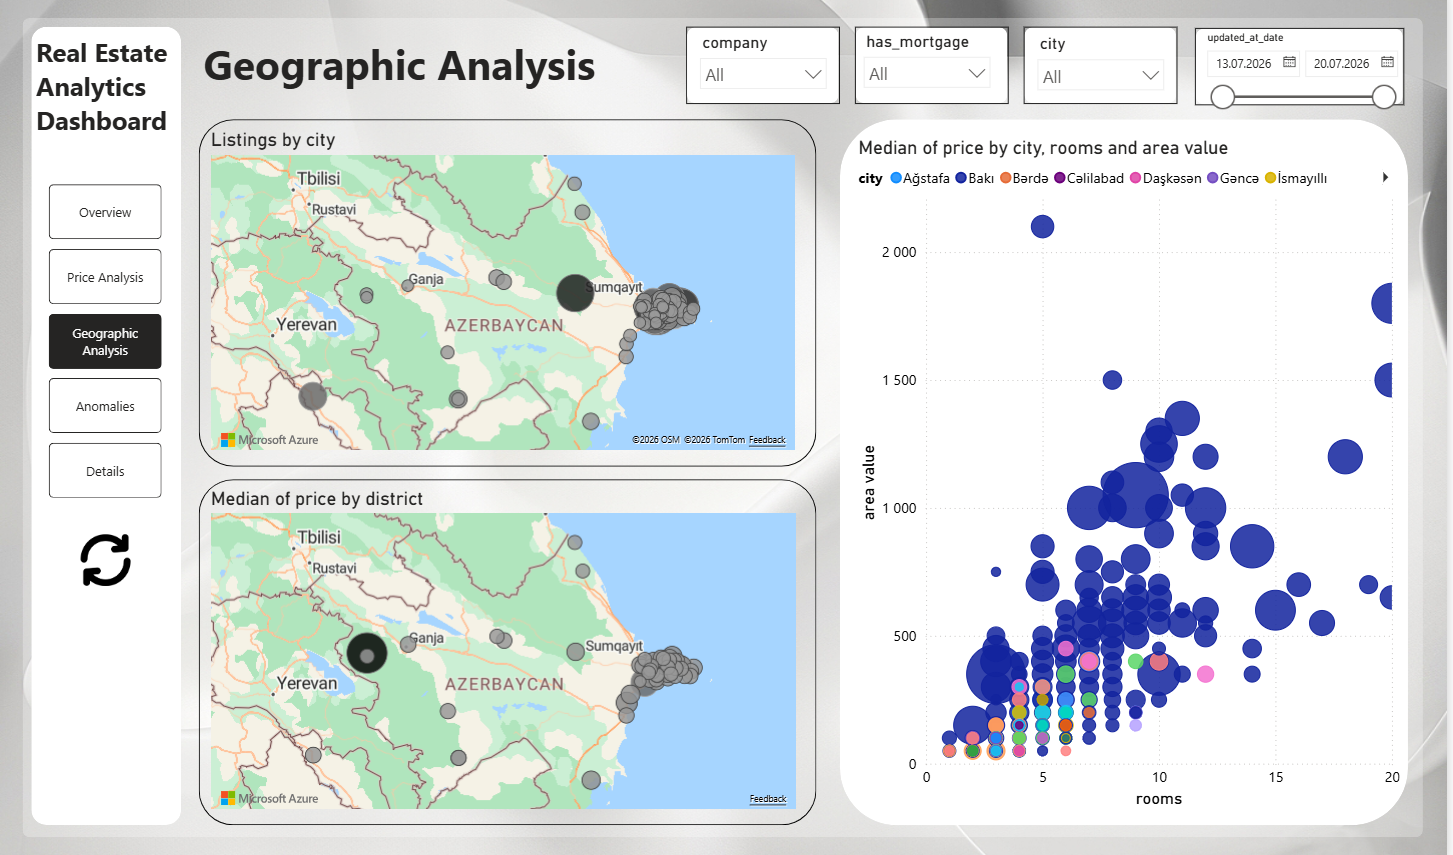

What the dashboard file says about the page in this screenshot:
{"tool":"powerbi","page":{"name":"Geographic Analysis","canvas":[1500,900],"ordinal":2},"visuals":[{"type":"shape","box":[23.2,25.9,1451.2,848.9],"z":0},{"type":"shape","box":[32.7,35.4,155.3,827.1],"z":1000},{"type":"textbox","box":[205.8,38.6,509.8,69.1],"z":2000},{"type":"shape","box":[205.8,130.3,640,360],"z":3000},{"type":"shape","box":[205.8,503.3,640,358.6],"z":4000},{"type":"shape","box":[1061,35.2,159,80.2],"z":5000},{"type":"shape","box":[979.4,281.4,479.8,292.7],"z":6000},{"type":"shape","box":[870,130.3,588.6,731.7],"z":7000},{"type":"shape","box":[886.5,35.2,159,80.2],"z":8000},{"type":"shape","box":[710.6,35.2,159,80.2],"z":9000},{"type":"shape","box":[1238.3,36.6,216.7,80.2],"z":10000},{"type":"slicer","fields":{"Values":["listings.city"]},"box":[1065.2,38,152,77.4],"z":11000},{"type":"slicer","fields":{"Values":["listings.updated_at_date"]},"box":[1238.3,35.2,216.7,90.1],"z":12000},{"type":"slicer","fields":{"Values":["listings.has_mortgage"]},"box":[885.1,35.2,152,77.4],"z":13000},{"type":"slicer","fields":{"Values":["listings.company"]},"box":[714.8,36.6,152,77.4],"z":14000},{"type":"textbox","box":[32.4,38,173.1,128],"z":15000},{"type":"azureMap","fields":{"Size":["Median(listings.price)"],"Category":["listings.city","listings.district"]},"box":[213.9,513,615.9,337.7],"z":16000},{"type":"azureMap","title":"Listings by city","fields":{"Category":["listings.city","listings.district"],"Size":["CountNonNull(listings.id)"]},"box":[213.9,141.5,615,337.7],"z":17000},{"type":"scatterChart","title":"Median of price by city, rooms and area value","fields":{"Y":["listings.area_value (bins)"],"X":["listings.rooms"],"Size":["Median(listings.price)"],"Series":["listings.city"]},"box":[884.4,149.6,570.9,699.5],"z":18000},{"type":"pageNavigator","box":[50.4,197.6,117.2,329.8],"z":19000},{"type":"image","box":[73.4,560.9,71.7,53.8],"z":20000}]}

Visuals, with their boxes on the page's 1500x900 design canvas (x1, y1, x2, y2). These are canvas units, not pixel positions in the 1453x855 screenshot, which may show the page scaled, cropped or inside an application window:
shape: select_region(23, 26, 1474, 875)
shape: select_region(33, 35, 188, 862)
textbox: select_region(206, 39, 716, 108)
shape: select_region(206, 130, 846, 490)
shape: select_region(206, 503, 846, 862)
shape: select_region(1061, 35, 1220, 115)
shape: select_region(979, 281, 1459, 574)
shape: select_region(870, 130, 1459, 862)
shape: select_region(886, 35, 1046, 115)
shape: select_region(711, 35, 870, 115)
shape: select_region(1238, 37, 1455, 117)
slicer - listings.city: select_region(1065, 38, 1217, 115)
slicer - listings.updated_at_date: select_region(1238, 35, 1455, 125)
slicer - listings.has_mortgage: select_region(885, 35, 1037, 113)
slicer - listings.company: select_region(715, 37, 867, 114)
textbox: select_region(32, 38, 206, 166)
azureMap - Median(listings.price) x listings.city: select_region(214, 513, 830, 851)
"Listings by city" azureMap: select_region(214, 142, 829, 479)
"Median of price by city, rooms and area value" scatterChart: select_region(884, 150, 1455, 849)
pageNavigator: select_region(50, 198, 168, 527)
image: select_region(73, 561, 145, 615)
